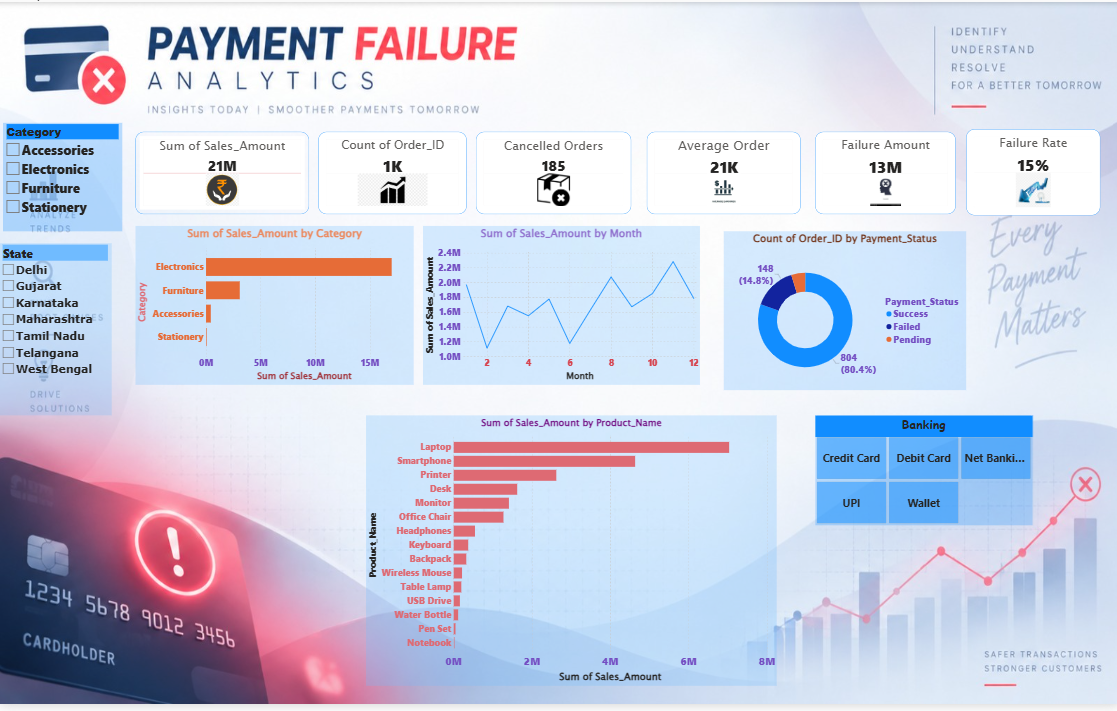

The page's visual inventory and layout, read from the dashboard file:
{"tool":"powerbi","page":{"name":"hp","canvas":[4000,2500],"ordinal":1},"visuals":[{"type":"cardVisual","fields":{"Data":["Sum(Fact_Sales.Sales_Amount)"]},"box":[486.1,462.5,618.2,292.6],"z":0},{"type":"cardVisual","fields":{"Data":["Count(Fact_Sales.Order_ID)"]},"box":[1137.4,462.5,528.6,292.6],"z":1000},{"type":"cardVisual","fields":{"Data":["Dim_Date.Average Order Value 1"]},"box":[2307.8,462.5,547.4,292.6],"z":2000},{"type":"cardVisual","fields":{"Data":["Dim_Customer.Cancelled Orders"]},"box":[1699,462.5,552.2,292.6],"z":3000},{"type":"lineChart","fields":{"Y":["Sum(Fact_Sales.Sales_Amount)"],"Category":["Dim_Date.Month"]},"box":[1510.2,797.6,986.3,566.3],"z":4000},{"type":"clusteredBarChart","fields":{"Category":["Dim_Product.Category"],"Y":["Sum(Fact_Sales.Sales_Amount)"]},"box":[486.1,797.6,991.1,566.3],"z":5000},{"type":"donutChart","fields":{"Y":["CountNonNull(Fact_Sales.Order_ID)"],"Category":["Fact_Sales.Payment_Status"]},"box":[2581.5,816.4,863.6,566.3],"z":6000},{"type":"barChart","fields":{"Y":["Sum(Fact_Sales.Sales_Amount)"],"Category":["Dim_Product.Product_Name"]},"box":[1307.3,1472.4,1463,962.7],"z":7000},{"type":"slicer","fields":{"Values":["Dim_Customer.State"]},"box":[0,858.9,401.1,613.5],"z":9000},{"type":"cardVisual","fields":{"Data":["Dim_Customer.Failure Amount"]},"box":[2907.1,462.5,500.2,292.6],"z":10000},{"type":"advancedSlicerVisual","title":"Banking","fields":{"Values":["Fact_Sales.Payment_Method"]},"box":[2907.1,1472.4,774,391.7],"z":11000},{"type":"slicer","fields":{"Values":["Dim_Product.Category"]},"box":[14.2,429.5,424.7,387],"z":12000},{"type":"cardVisual","fields":{"Data":["Dim_Customer.Failure Rate"]},"box":[3445.1,453.1,476.7,306.8],"z":13000}]}

Visuals, with their boxes in screenshot pixels (x1, y1, x2, y2), scaled from the page's 4000x2500 canvas onto the 1117x711 screenshot:
cardVisual - Sum(Fact_Sales.Sales_Amount): bbox(136, 132, 308, 215)
cardVisual - Count(Fact_Sales.Order_ID): bbox(318, 132, 465, 215)
cardVisual - Dim_Date.Average Order Value 1: bbox(644, 132, 797, 215)
cardVisual - Dim_Customer.Cancelled Orders: bbox(474, 132, 629, 215)
lineChart - Sum(Fact_Sales.Sales_Amount) x Dim_Date.Month: bbox(422, 227, 697, 388)
clusteredBarChart - Dim_Product.Category x Sum(Fact_Sales.Sales_Amount): bbox(136, 227, 413, 388)
donutChart - CountNonNull(Fact_Sales.Order_ID) x Fact_Sales.Payment_Status: bbox(721, 232, 962, 393)
barChart - Sum(Fact_Sales.Sales_Amount) x Dim_Product.Product_Name: bbox(365, 419, 774, 693)
slicer - Dim_Customer.State: bbox(0, 244, 112, 419)
cardVisual - Dim_Customer.Failure Amount: bbox(812, 132, 951, 215)
"Banking" advancedSlicerVisual: bbox(812, 419, 1028, 530)
slicer - Dim_Product.Category: bbox(4, 122, 123, 232)
cardVisual - Dim_Customer.Failure Rate: bbox(962, 129, 1095, 216)
